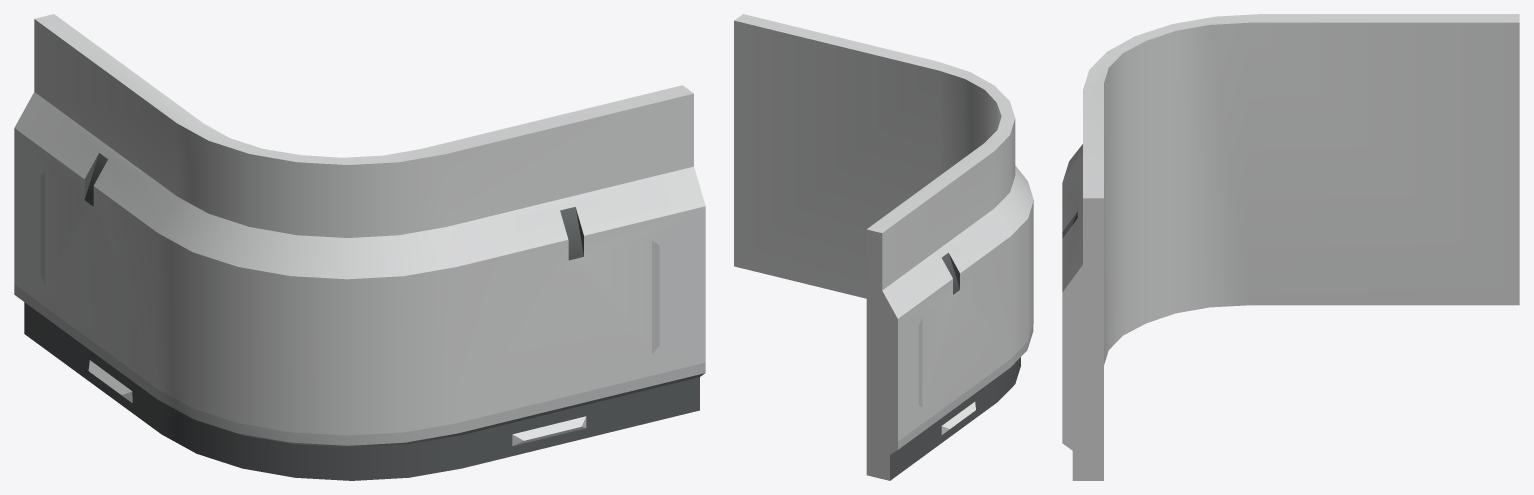
The model's file is Wall_type_A_042.fbx.
3 renders of one model, left to right at view 1: azimuth 30°, elevation 25°; view 2: azimuth 150°, elevation 25°; view 3: azimuth 270°, elevation 25°, orthographic. The views are drawn at different scales.
Visible parts, largest first — view 1: Wall_type_A_042; view 2: Wall_type_A_042; view 3: Wall_type_A_042.
Part boxes in pixels (left/top/right/bottom): Wall_type_A_042: left=14, top=14, right=705, bottom=480; Wall_type_A_042: left=734, top=14, right=1033, bottom=480; Wall_type_A_042: left=1062, top=14, right=1519, bottom=480.
Size of the model in its own units: 220 by 220 by 150.
